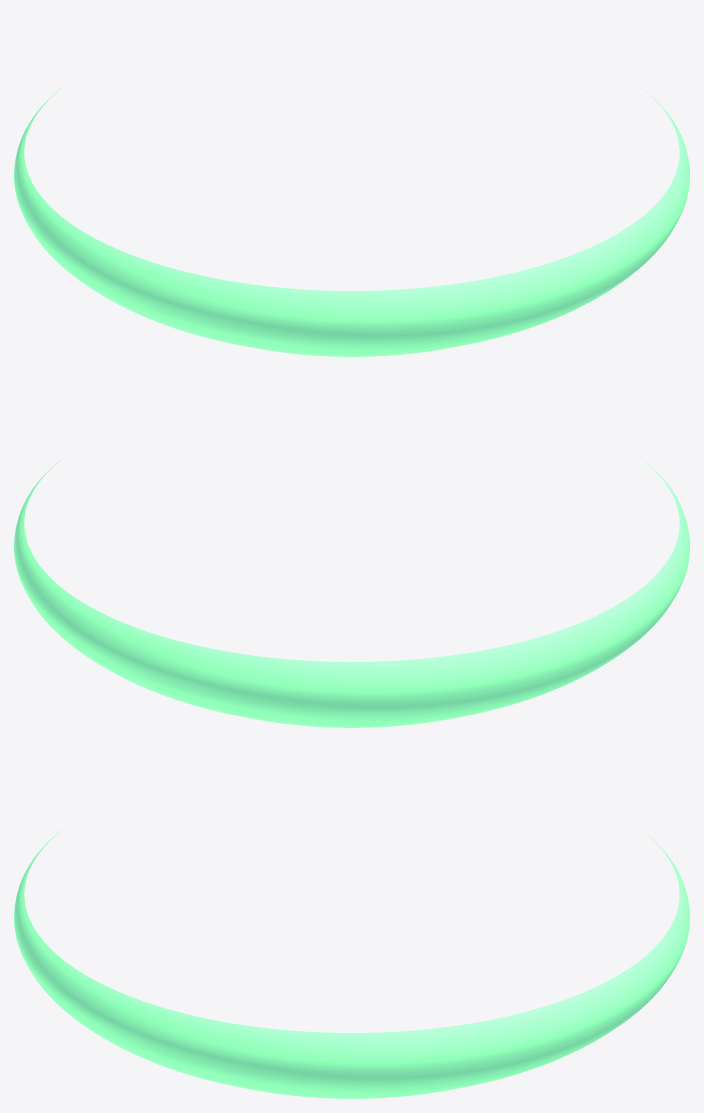
Rendered from bowl.glb.
The picture shows the model from 3 angles, top to bottom: view 1: azimuth 30°, elevation 25°; view 2: azimuth 150°, elevation 25°; view 3: azimuth 270°, elevation 25°; orthographic projection.
Parts seen in each view (by area): view 1: Bowl; view 2: Bowl; view 3: Bowl.
Boxes of the visible parts, <box> form: Bowl: <box>14,87,689,356</box>; Bowl: <box>14,458,689,727</box>; Bowl: <box>14,830,689,1098</box>.
Bounding box in the file's own units: 861 × 170 × 861.
